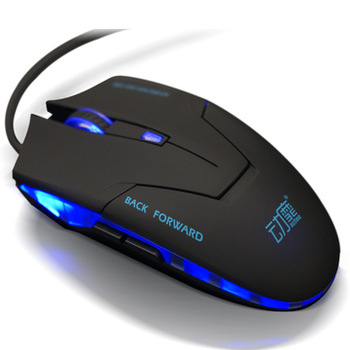Mouse: (8, 71, 344, 318)
